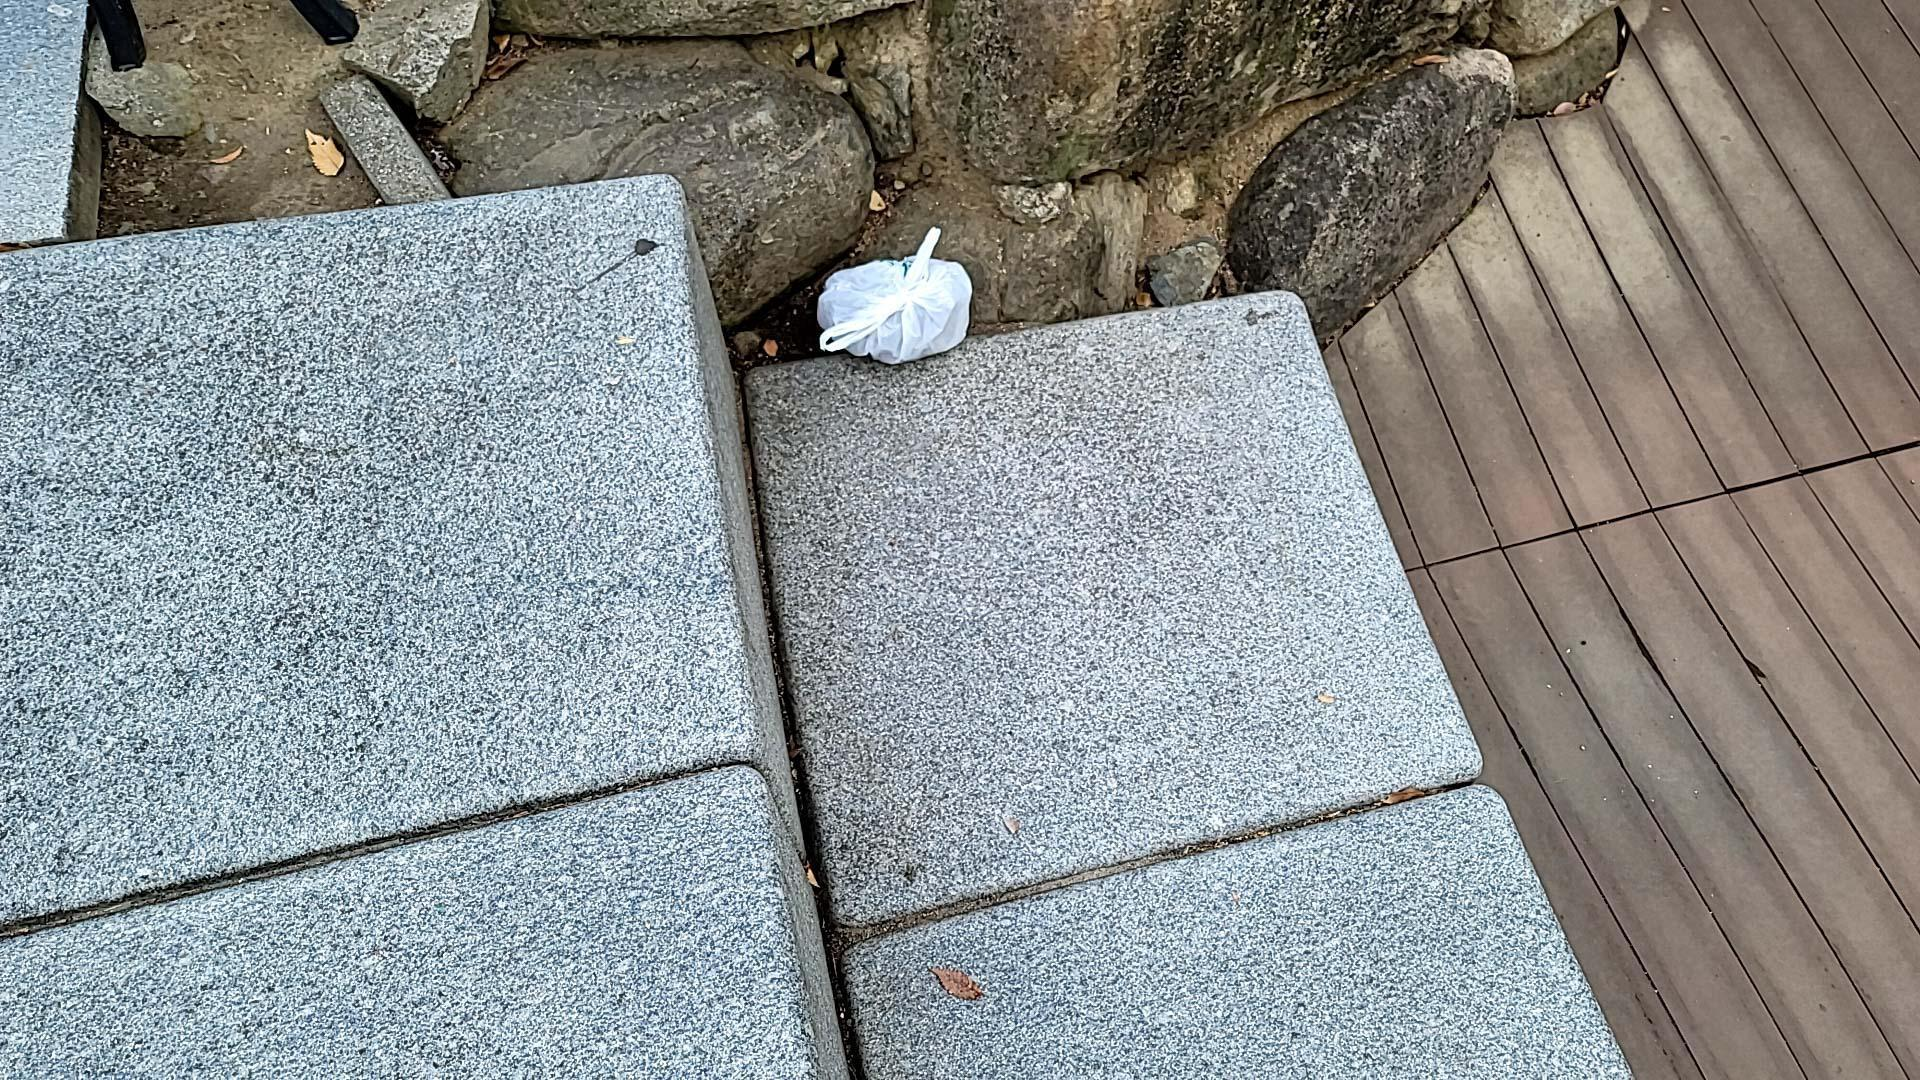white_bag: (802, 222, 985, 369)
